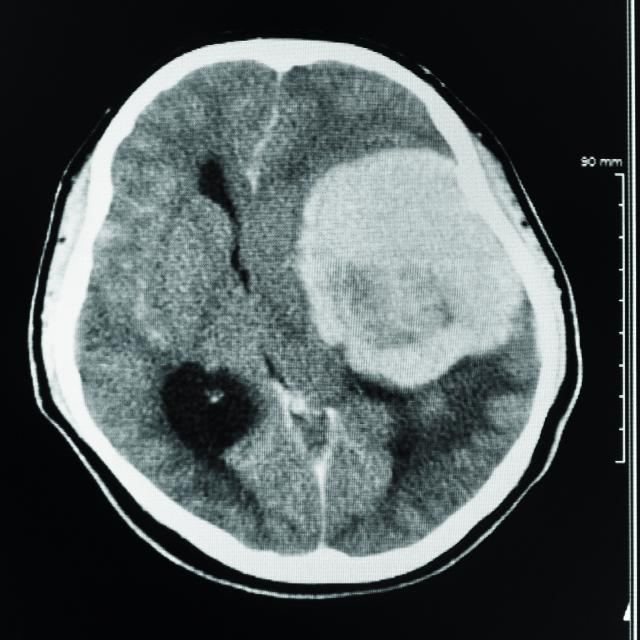Tumor: (307, 148, 523, 392)
